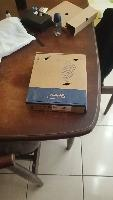damaged package: (59, 80, 72, 87), (70, 55, 78, 62), (43, 55, 49, 60)
undamaged: (25, 52, 88, 115)
